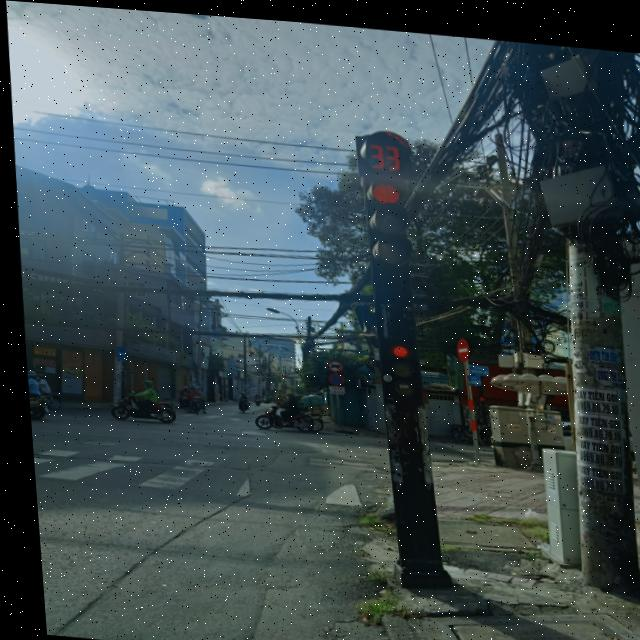Red: (357, 163, 413, 263), (372, 328, 419, 400)
